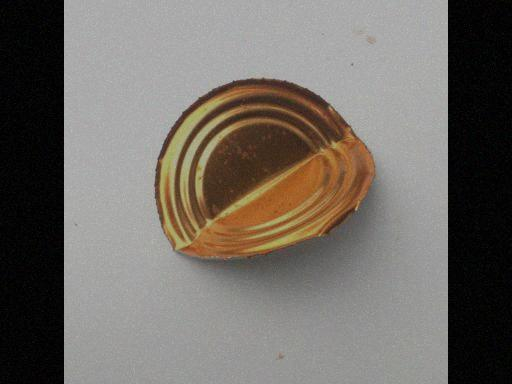metal: (156, 77, 376, 260)
